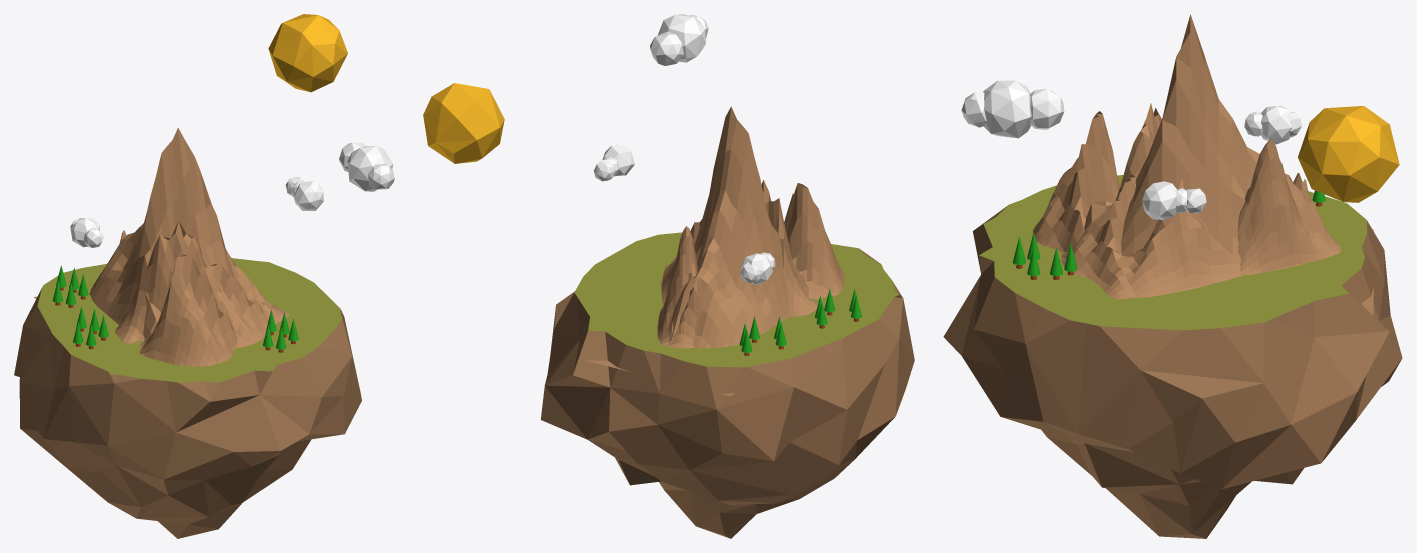
Rendered from low poly mountain.c4d.fbx.
The picture shows the model from 3 angles, left to right: view 1: azimuth 30°, elevation 25°; view 2: azimuth 150°, elevation 25°; view 3: azimuth 270°, elevation 25°; orthographic projection. The views are drawn at different scales.
Visible parts, largest first — view 1: Sphere, Cube, Landscape_2, Landscape_4, moon_thingy, Landscape_3, moon_thingy_2, moon_thingy_10, moon_thingy_4, moon_thingy_7; view 2: Sphere, Cube, Landscape_4, Landscape_2, moon_thingy, Landscape_1, moon_thingy_2, moon_thingy_3; view 3: Sphere, Cube, Landscape_4, Landscape_3, Landscape_1, moon_thingy, Landscape_2, moon_thingy_2, moon_thingy_3, moon_thingy_10, moon_thingy_7, moon_thingy_4.
Part boxes in pixels (x1,y1,x2,y2): Sphere: (14, 288, 361, 538); Cube: (37, 258, 342, 382); Landscape_2: (115, 220, 237, 366); Landscape_4: (34, 127, 244, 338); moon_thingy: (268, 14, 347, 92); Landscape_3: (206, 249, 289, 347); moon_thingy_2: (347, 146, 393, 191); moon_thingy_10: (294, 181, 323, 210); moon_thingy_4: (367, 164, 394, 189); moon_thingy_7: (70, 218, 99, 247); Sphere: (540, 248, 914, 538); Cube: (574, 232, 898, 367); Landscape_4: (585, 106, 808, 396); Landscape_2: (761, 180, 844, 316); moon_thingy: (423, 83, 504, 163); Landscape_1: (657, 226, 706, 348); moon_thingy_2: (658, 14, 705, 62); moon_thingy_3: (650, 31, 683, 65); Sphere: (943, 205, 1402, 538); Cube: (979, 175, 1367, 330); Landscape_4: (1072, 14, 1373, 314); Landscape_3: (1061, 174, 1242, 299); Landscape_1: (1237, 138, 1340, 275); moon_thingy: (1298, 106, 1399, 202); Landscape_2: (1033, 103, 1161, 252); moon_thingy_2: (983, 80, 1031, 138); moon_thingy_3: (1030, 89, 1064, 129); moon_thingy_10: (1142, 181, 1176, 220); moon_thingy_7: (1261, 105, 1291, 144); moon_thingy_4: (961, 92, 986, 127).
Size of the model in its own units: 605 by 667 by 511.
